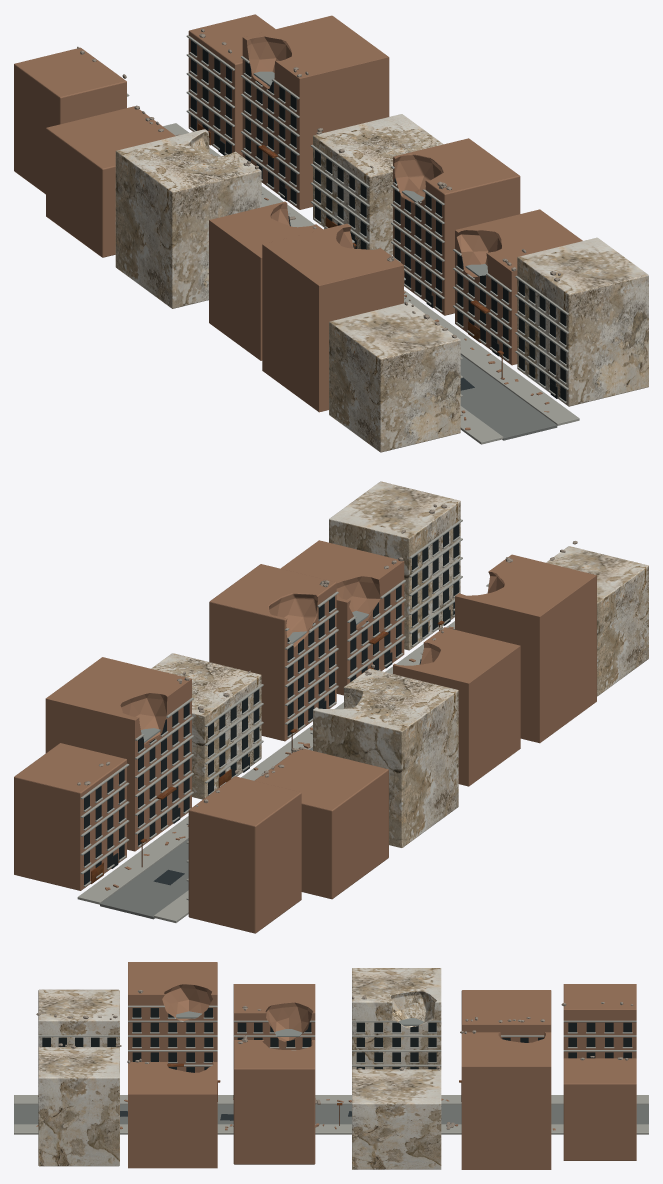
Rendered from urban.glb.
3 views of the same model, one above another, from view 1: azimuth 30°, elevation 25°; view 2: azimuth 150°, elevation 25°; view 3: azimuth 270°, elevation 25° (orthographic). The views are drawn at different scales.
Parts seen in each view (by area): view 1: Building_3, Building_0, Building_6, Building_1, Building_10, Building_8, Building_4, Building_5, Building_9, Building_2, Building_7, Building_11 (+3 smaller); view 2: Building_1, Building_3, Building_5, Building_10, Building_8, Building_4, Building_11, Building_2, Building_6, Building_7, Building_0, Building_9 (+2 smaller); view 3: Building_10, Building_8, Building_6, Building_7, Building_9, Building_11, Building_3, Building_1, Building_5, Building_2, Building_0, Building_4 (+3 smaller).
Part boxes in pixels (box(x1,y1,x2,y2)): Building_3: box(115, 129, 261, 308); Building_0: box(329, 302, 460, 452); Building_6: box(517, 237, 648, 406); Building_1: box(262, 223, 403, 412); Building_10: box(242, 15, 389, 209); Building_8: box(393, 138, 520, 315); Building_4: box(46, 106, 175, 257); Building_5: box(14, 47, 126, 194); Building_9: box(313, 114, 443, 255); Building_2: box(209, 201, 322, 360); Building_7: box(455, 209, 582, 365); Building_11: box(188, 14, 275, 156); Building_1: box(455, 554, 596, 743); Building_3: box(313, 668, 458, 847); Building_5: box(188, 776, 301, 933); Building_10: box(45, 657, 191, 851); Building_8: box(209, 564, 336, 741); Building_4: box(254, 748, 388, 899); Building_11: box(14, 743, 126, 890); Building_2: box(393, 627, 520, 786); Building_6: box(329, 481, 460, 650); Building_7: box(281, 540, 404, 695); Building_0: box(546, 546, 648, 696); Building_9: box(151, 653, 261, 799); Building_10: box(461, 1032, 551, 1169); Building_8: box(233, 1040, 315, 1164); Building_6: box(38, 1047, 119, 1166); Building_7: box(128, 1062, 217, 1168); Building_9: box(352, 1069, 441, 1169); Building_11: box(563, 1058, 636, 1160); Building_3: box(352, 968, 441, 1069); Building_1: box(128, 962, 217, 1072); Building_5: box(563, 984, 636, 1058); Building_2: box(233, 984, 315, 1049); Building_0: box(38, 989, 119, 1047); Building_4: box(461, 990, 551, 1042).
Size of what is drawn, in the model's own units: 64 by 29.7 by 156.
Materials: 12 (2 with a texture image).
